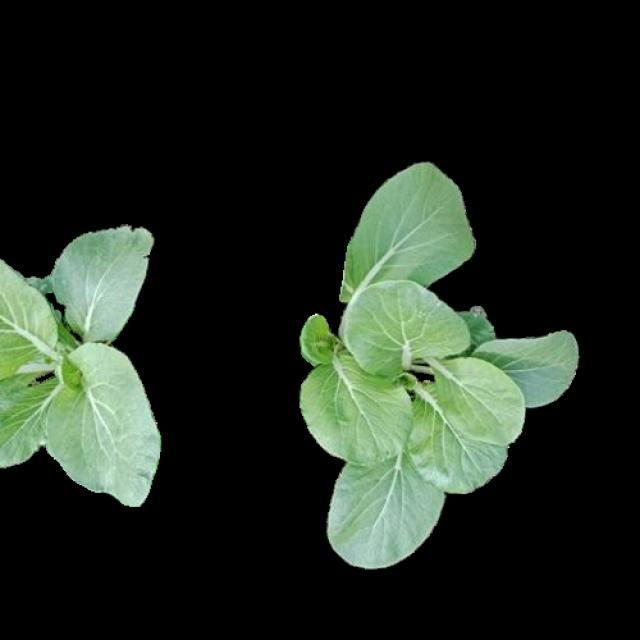healthy: (325, 278, 574, 560), (1, 224, 165, 504)
not-mature: (328, 281, 576, 564), (1, 226, 165, 507)
